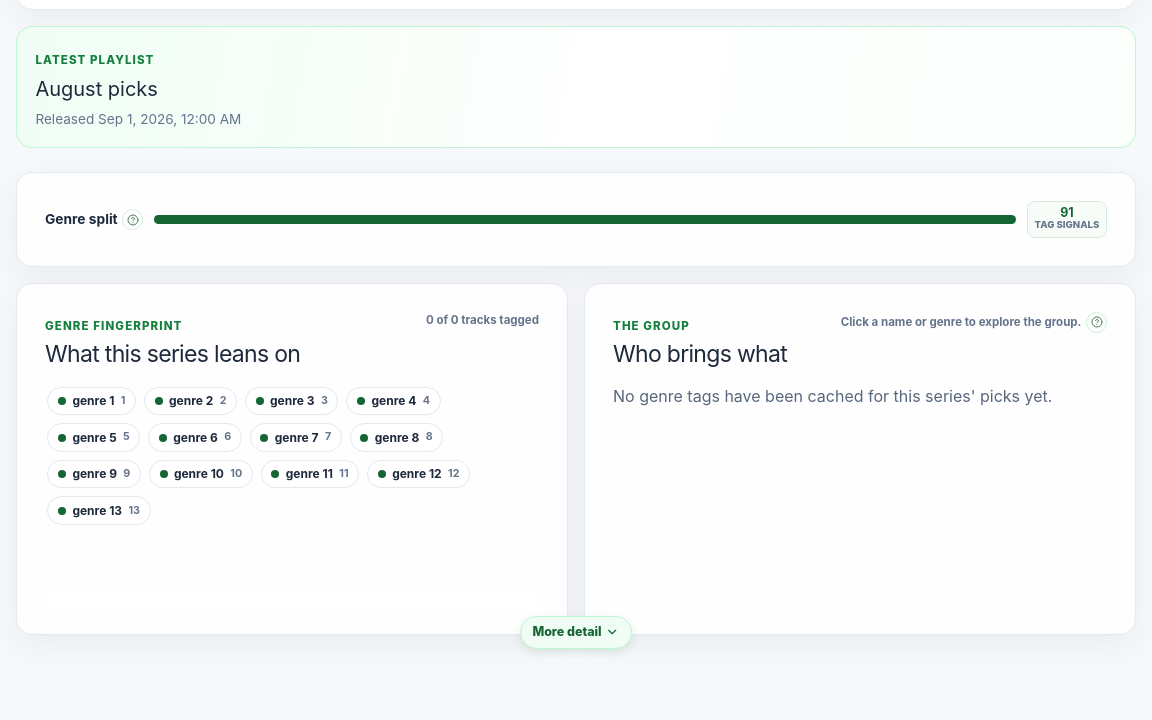
Test: SeriesPage › expands the paired genre cards together when there is more detail
(page scrolled)
Click the button "More detail": (576, 632) [520,616,632,649]
(page scrolled)
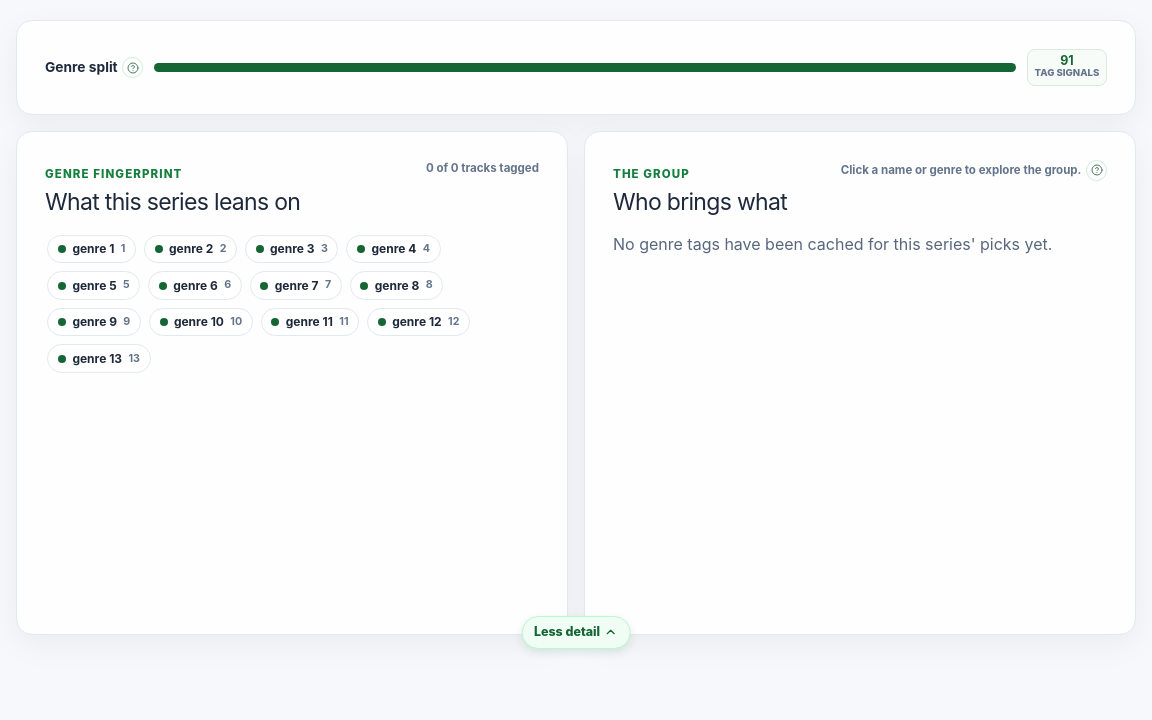
Expected: the button named "More detail" reads "Less detail"
Expected: the button named "More detail" is expanded
Click the button named "More detail": (576, 632) [522,616,630,649]
(page scrolled)
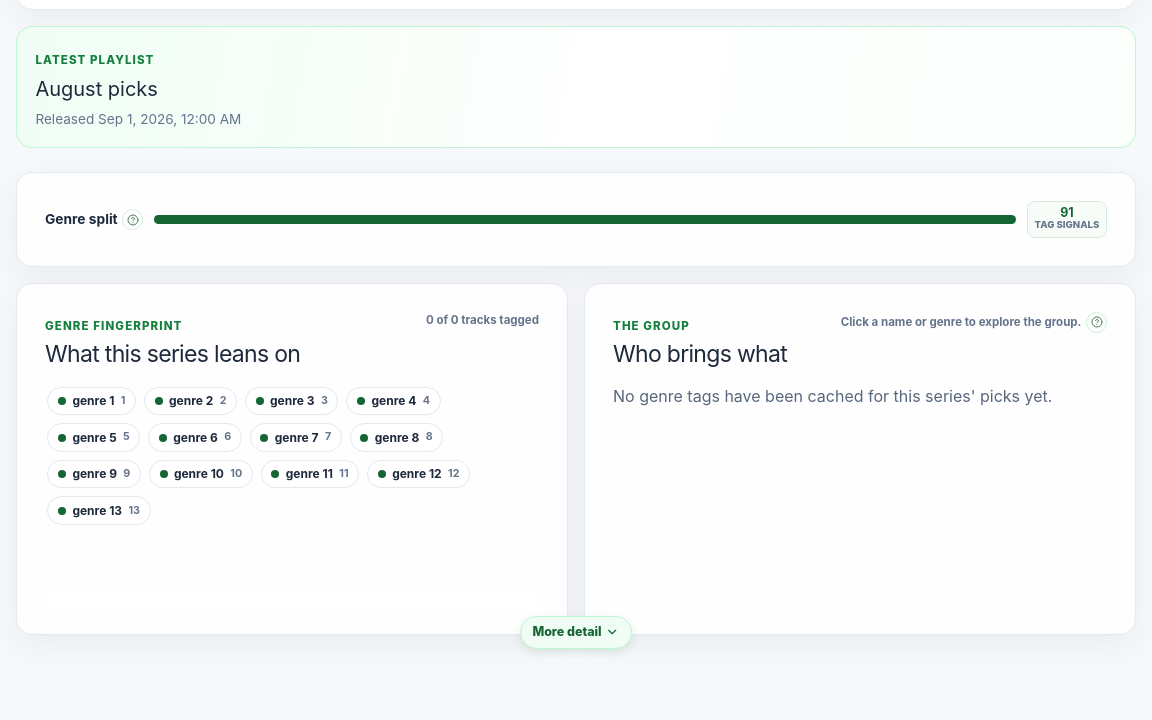
Expected: the button "More detail" is shown, [520,616,632,649]
